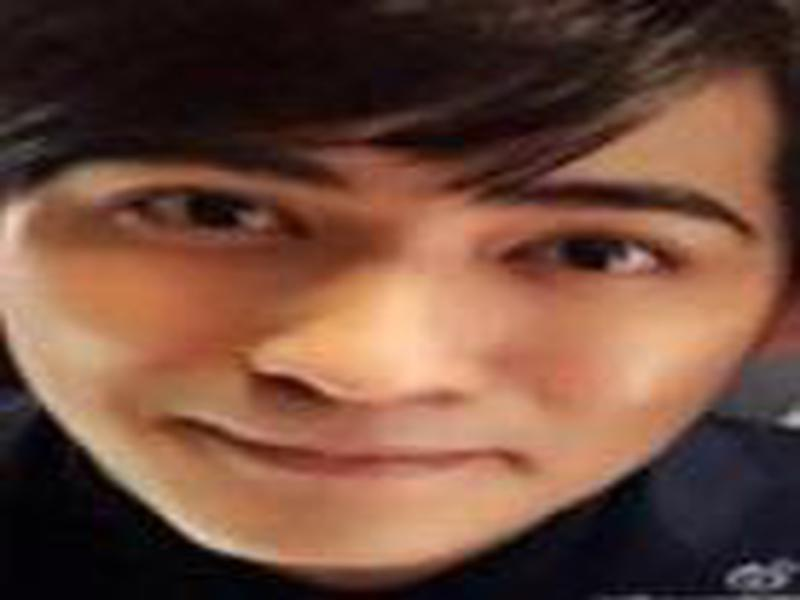without_mask: (6, 68, 774, 576)
